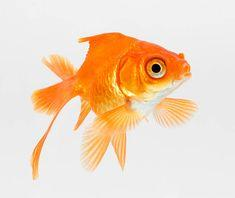goldfish: (41, 24, 210, 152)
